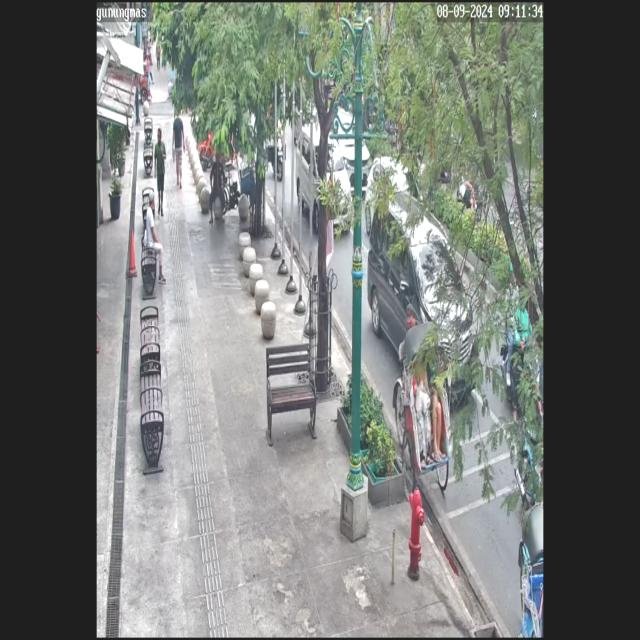Car: (360, 190, 486, 410), (292, 123, 354, 241), (322, 95, 378, 201), (358, 147, 416, 233)
